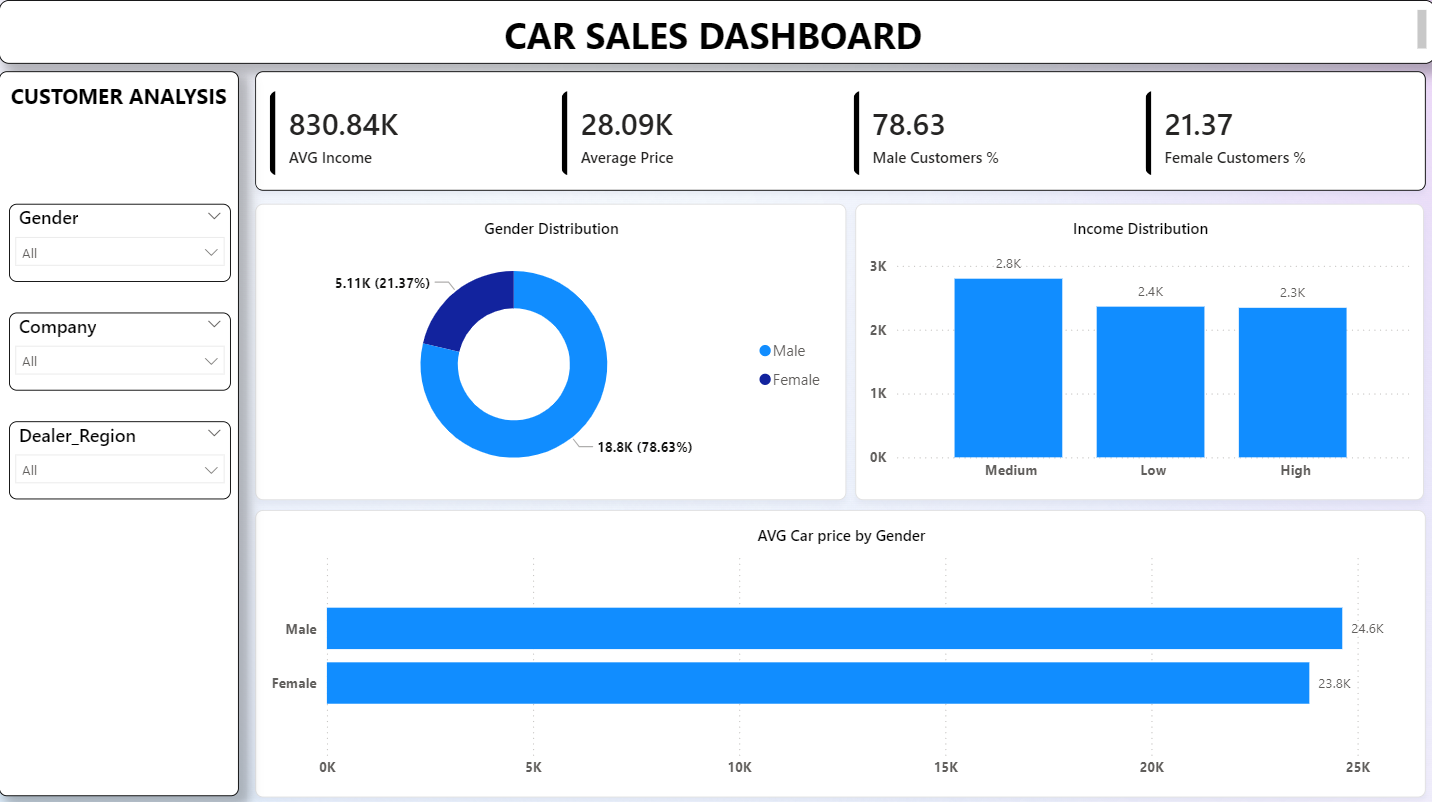

Layout of this report page (visuals, bound fields, positions):
{"tool":"powerbi","page":{"name":"Customer Analysis","canvas":[1280,720],"ordinal":1},"visuals":[{"type":"textbox","box":[0,0,1280,56.7],"z":0},{"type":"cardVisual","fields":{"Data":["Avg(Car_sales.Annual Income)","Car_sales.Average Price","Car_sales.Male Customers %","Car_sales.Female Customers %"]},"box":[228,63.9,1042.4,106.2],"z":1000},{"type":"clusteredBarChart","title":"AVG Car price by Gender","fields":{"Category":["Car_sales.Gender"],"Y":["Avg(Car_sales.Price ($))"]},"box":[228,453.6,1042.4,255.8],"z":2000},{"type":"donutChart","title":"Gender Distribution","fields":{"Y":["CountNonNull(Car_sales.Car_id)"],"Category":["Car_sales.Gender"]},"box":[228,181,526,264.2],"z":3000},{"type":"columnChart","title":"Income Distribution","fields":{"Y":["Car_sales.Car Sold"],"Category":["Car_sales.Salary Band"]},"box":[762.5,181,506.7,264.2],"z":5000},{"type":"textbox","box":[0,63.9,213.5,645.4],"z":6000},{"type":"slicer","title":"Revenue by Region","fields":{"Values":["Car_sales.Gender"]},"box":[8.4,181,197.9,70],"z":6001},{"type":"slicer","title":"Revenue by Region","fields":{"Values":["Car_sales.Dealer_Region"]},"box":[8.4,375.2,197.9,70],"z":6002},{"type":"slicer","title":"Revenue by Region","fields":{"Values":["Car_sales.Company"]},"box":[8.4,278.7,197.9,70],"z":6003}]}

Visuals, with their boxes in screenshot pixels (x1, y1, x2, y2), scaled from the page's 1280x720 canvas onto the 1432x802 screenshot:
textbox: region(0, 0, 1431, 63)
cardVisual - Avg(Car_sales.Annual Income) x Car_sales.Average Price: region(255, 71, 1421, 189)
"AVG Car price by Gender" clusteredBarChart: region(255, 505, 1421, 790)
"Gender Distribution" donutChart: region(255, 202, 844, 496)
"Income Distribution" columnChart: region(853, 202, 1420, 496)
textbox: region(0, 71, 239, 790)
"Revenue by Region" slicer: region(9, 202, 231, 280)
"Revenue by Region" slicer: region(9, 418, 231, 496)
"Revenue by Region" slicer: region(9, 310, 231, 388)
